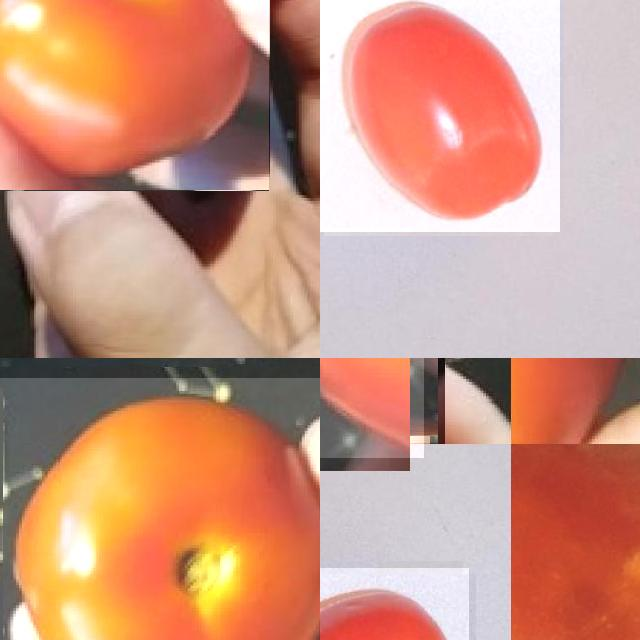0: (320, 0, 560, 232)
Fresh Tomato: (0, 377, 320, 640), (0, 0, 269, 190), (511, 358, 640, 444), (320, 358, 424, 457)
Rotten Tomato: (511, 444, 640, 640)
